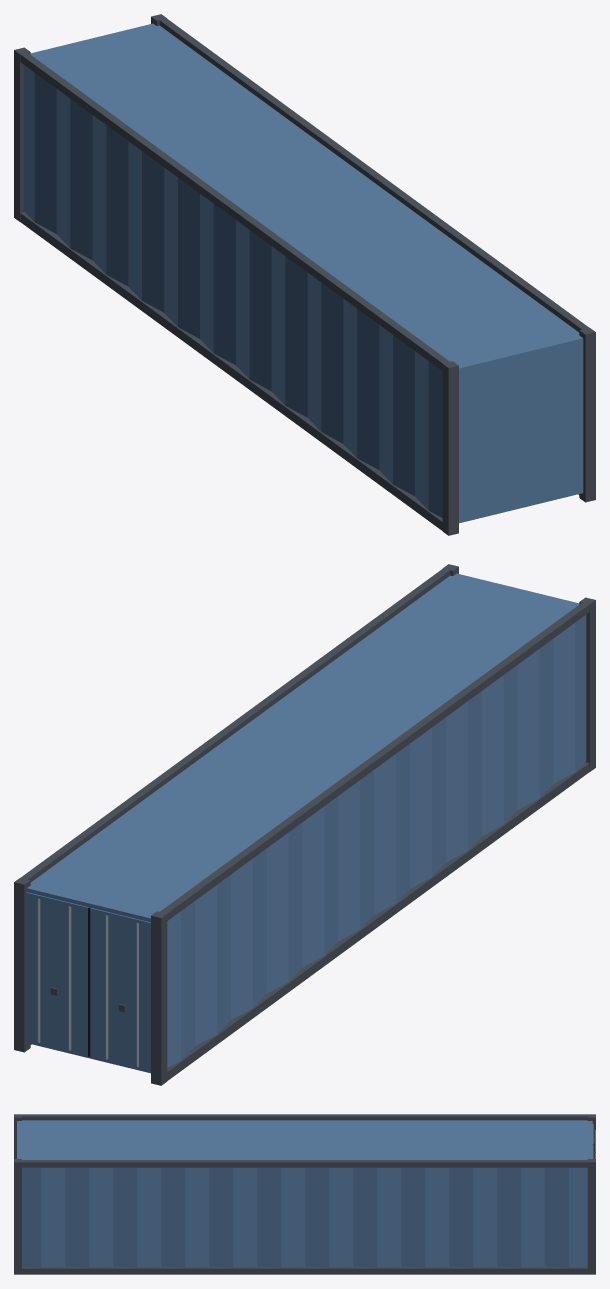
The model's file is container_c.glb.
The picture shows the model from 3 angles, top to bottom: view 1: azimuth 30°, elevation 25°; view 2: azimuth 150°, elevation 25°; view 3: azimuth 270°, elevation 25°; orthographic projection. The views are drawn at different scales.
Parts seen in each view (by area): view 1: Body; view 2: Body; view 3: Body.
Boxes of the visible parts, x1,y1,x2,y2 form: Body: (14,14,595,535); Body: (14,564,595,1085); Body: (14,1114,595,1274).
Bounding box in the file's own units: 2.39 × 2.6 × 12.21.
